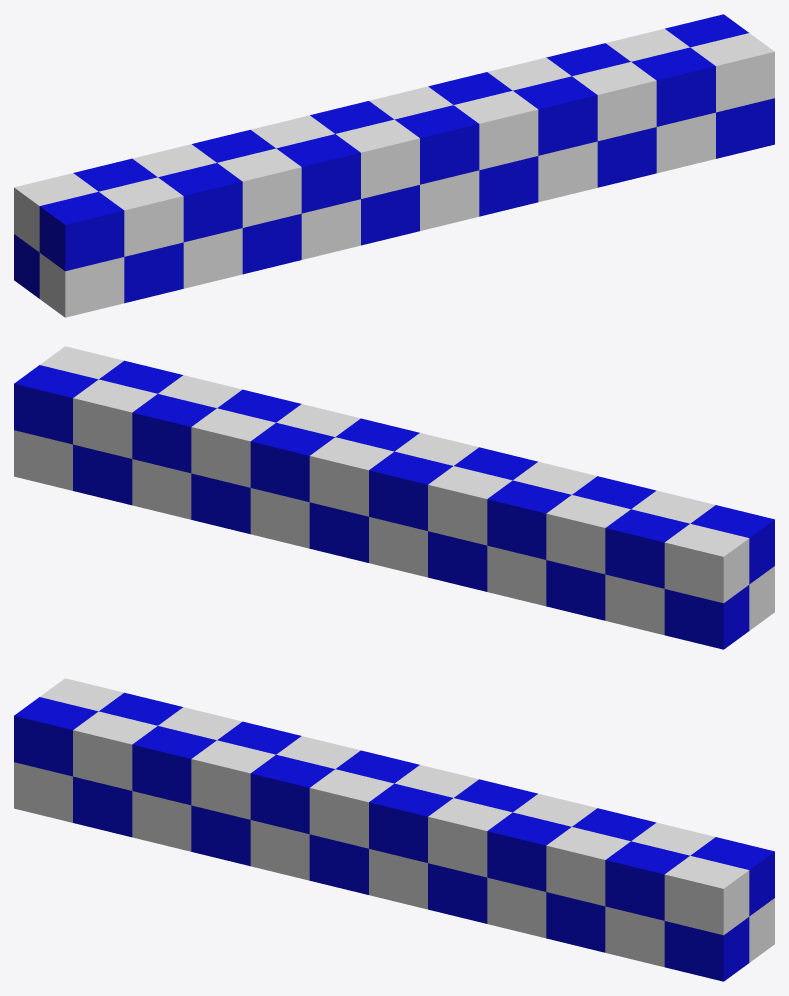
Rendered from EndOfTheLine.fbx.
The picture shows the model from 3 angles, top to bottom: view 1: azimuth 30°, elevation 25°; view 2: azimuth 150°, elevation 25°; view 3: azimuth 330°, elevation 25°; orthographic projection.
Visible parts, largest first — view 1: Cube; view 2: Cube; view 3: Cube.
Boxes of the visible parts, x1,y1,x2,y2 form: Cube: [14, 14, 774, 317]; Cube: [14, 346, 774, 649]; Cube: [14, 678, 774, 981].
Bounding box in the file's own units: 800 × 100 × 100.
